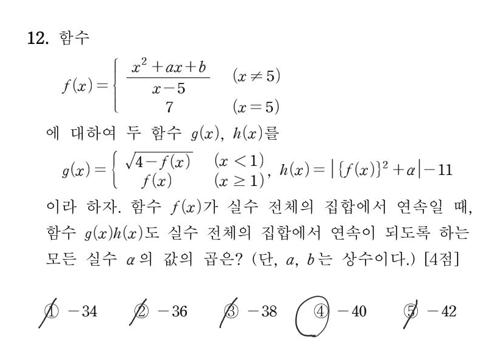1: (293, 294, 330, 340)
paper: (132, 304, 152, 322), (222, 302, 240, 322), (311, 302, 329, 322), (401, 302, 419, 322), (43, 302, 61, 321)
